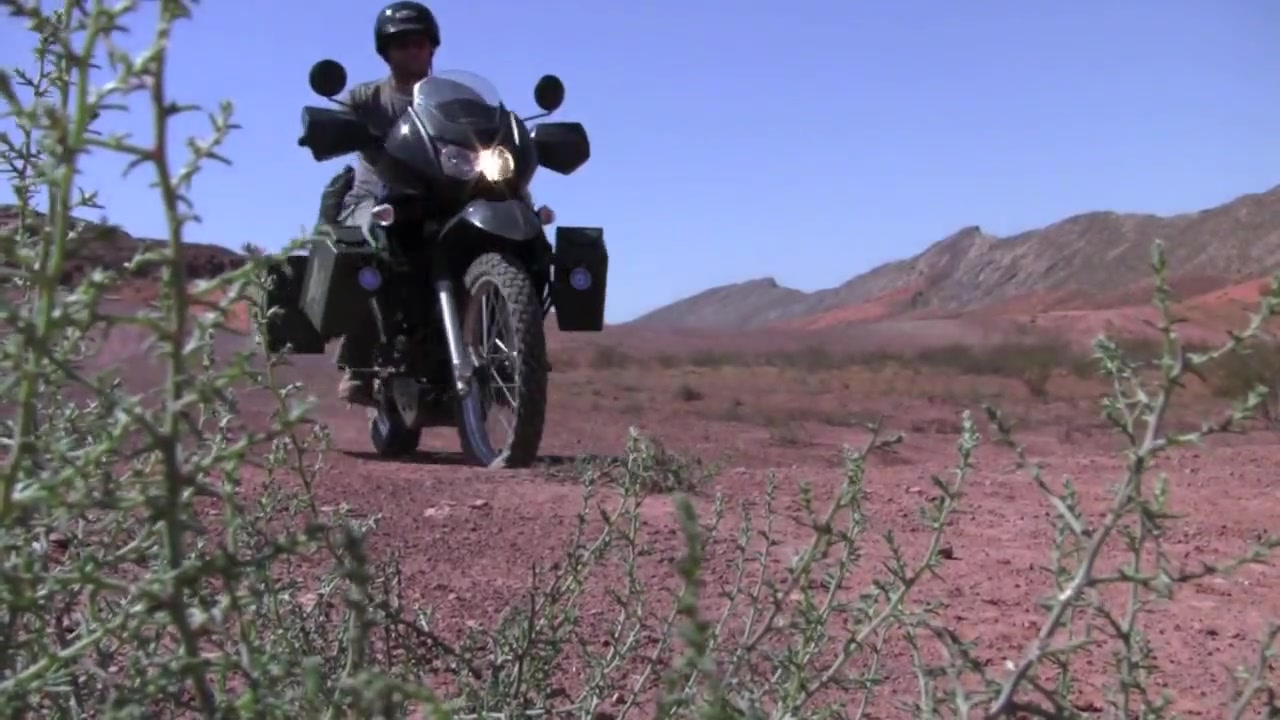motorbike: (263, 62, 608, 469)
